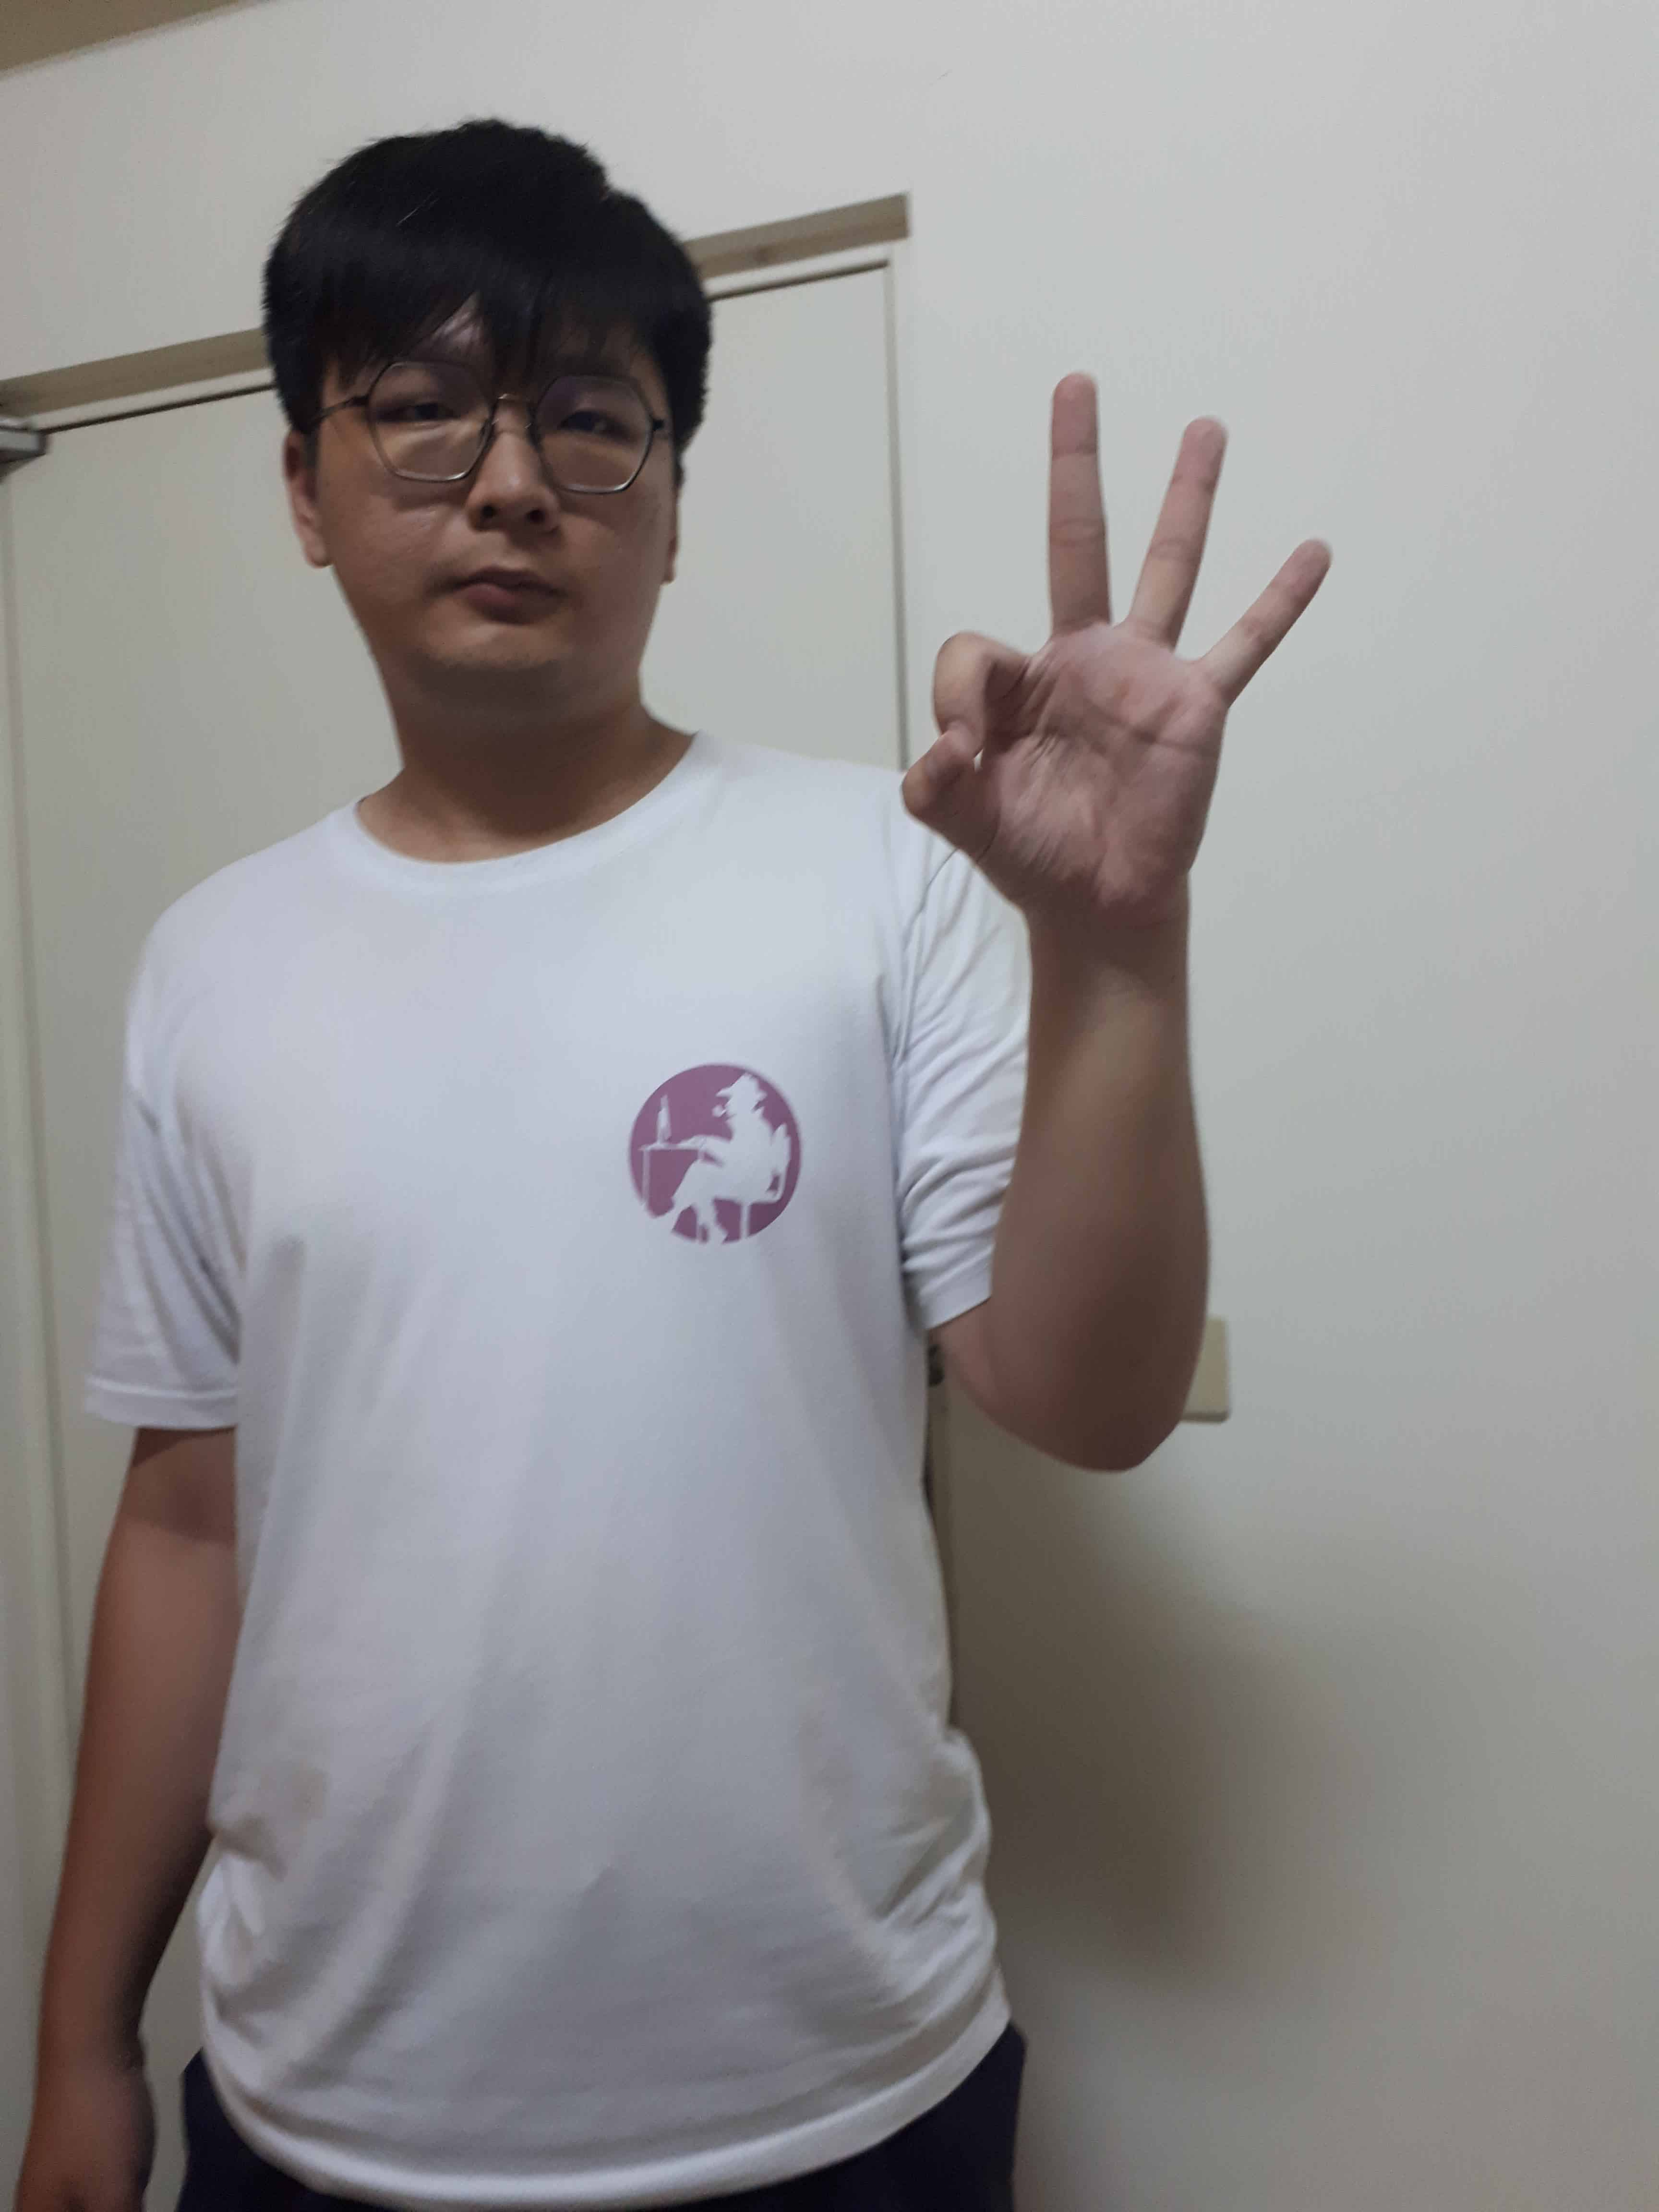ok: (892, 366, 1345, 918)
